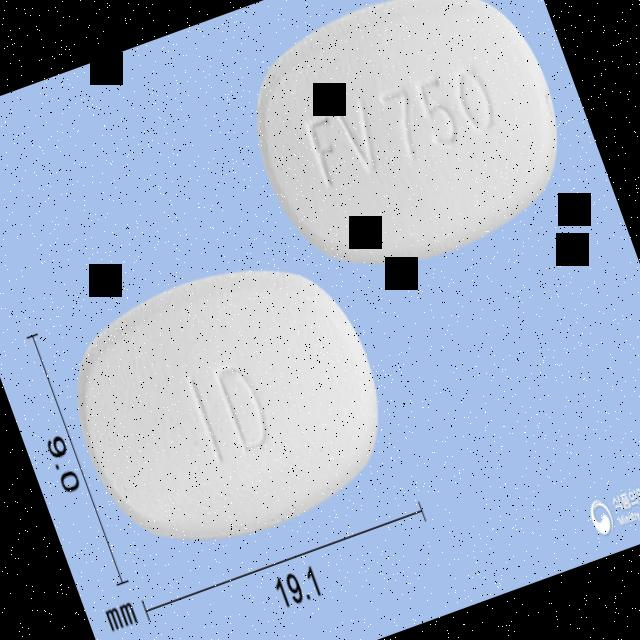Famvir -750mg: (46, 228, 413, 578), (223, 0, 590, 301)
